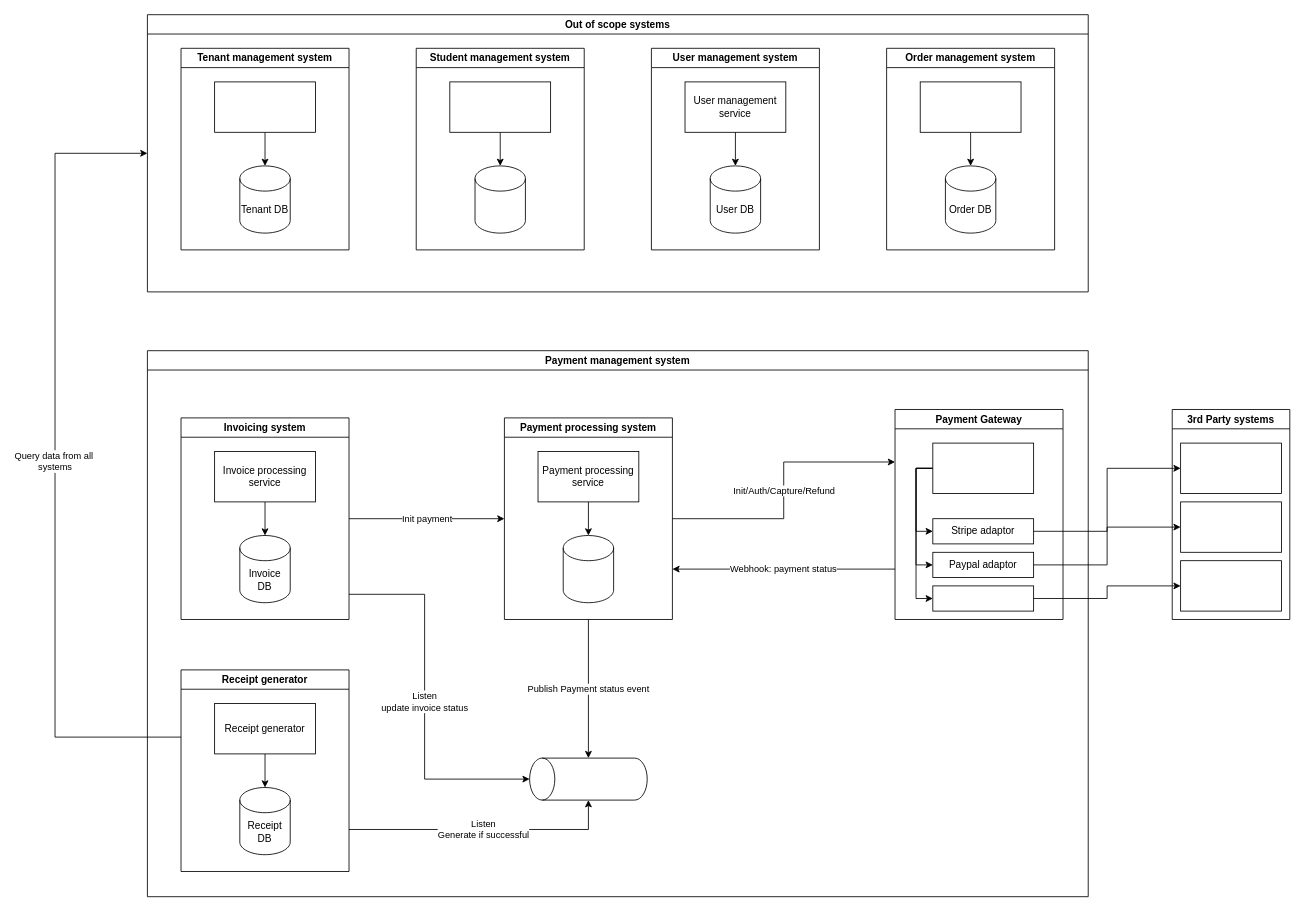
Some shapes in this 1305 by 911 pixel diagram are drawn without their labels. Each missing label, with the centre of its shape:
"Adapter factory" belongs at [983,468].
"Checkout" belongs at [1230,585].
"Checkout adaptor" belongs at [983,598].
"Order management service" belongs at [970,106].
"Payment DB" belongs at [588,569].
"Payment processing queue" belongs at [588,778].
"Paypal" belongs at [1230,526].
"Stripe" belongs at [1230,468].
"Student DB" belongs at [499,199].
"Student management service" belongs at [500,106].
"Tenant management service" belongs at [264,106].
